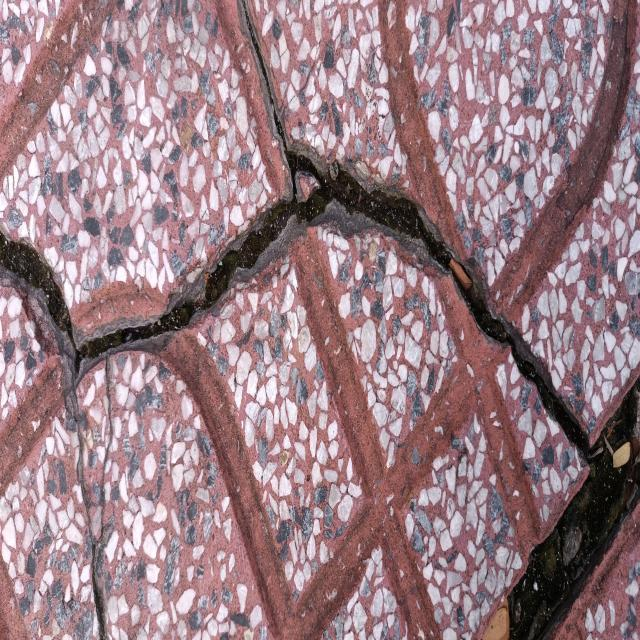branched cracks: (0, 0, 639, 639), (89, 525, 107, 639)
